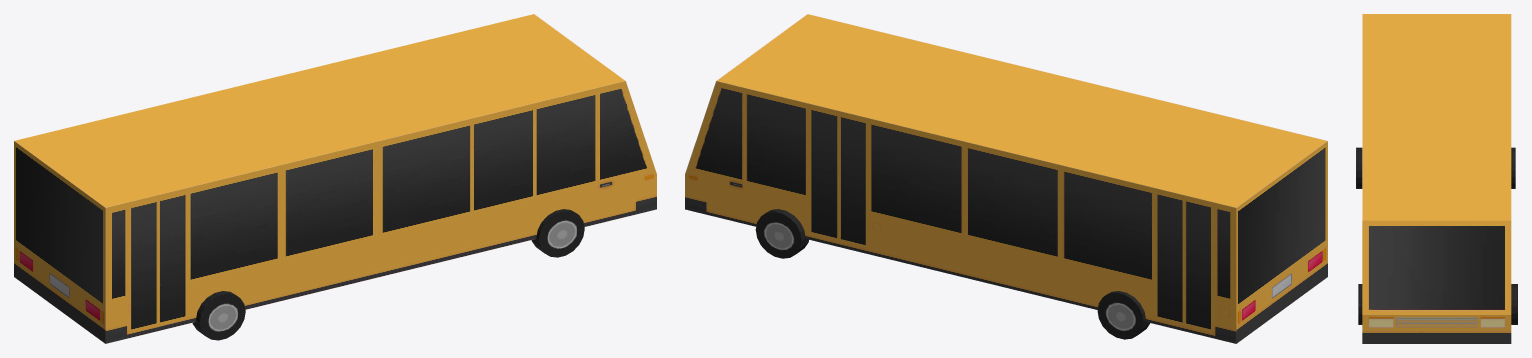
File: yellow-bus.glb
3 views of the same model, side by side, from view 1: azimuth 30°, elevation 25°; view 2: azimuth 150°, elevation 25°; view 3: azimuth 270°, elevation 25° (orthographic). The views are drawn at different scales.
Parts seen in each view (by area): view 1: Car_12; view 2: Car_12; view 3: Car_12.
Part boxes in pixels (<box>): Car_12: <box>14,14,656,343</box>; Car_12: <box>685,14,1327,343</box>; Car_12: <box>1356,14,1517,343</box>.
Bounding box in the file's own units: 1.81 × 0.4935 × 0.5634.
1 material, 1 textured.
